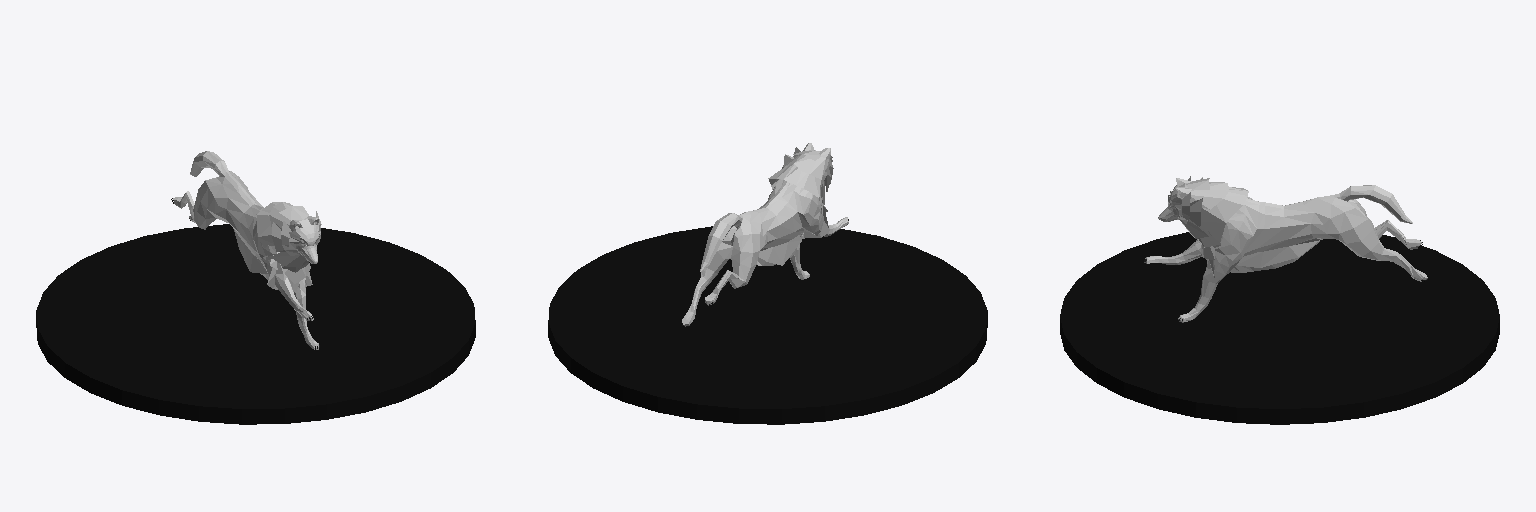
The model's file is doggo.obj.
3 views of the same model, side by side, from view 1: azimuth 30°, elevation 25°; view 2: azimuth 150°, elevation 25°; view 3: azimuth 270°, elevation 25° (orthographic).
Parts seen in each view (by area): view 1: Circle, Wolf1_Material__wolf_col_tga_0, Wolf2_fur__fella3_jpg_001_0_Wolf2_fur__fella3_jpg_001_0.001; view 2: Circle, Wolf1_Material__wolf_col_tga_0, Wolf2_fur__fella3_jpg_001_0_Wolf2_fur__fella3_jpg_001_0.001; view 3: Circle, Wolf1_Material__wolf_col_tga_0, Wolf2_fur__fella3_jpg_001_0_Wolf2_fur__fella3_jpg_001_0.001.
Boxes of the visible parts, <box> form: Circle: <box>36,224,475,424</box>; Wolf1_Material__wolf_col_tga_0: <box>173,151,318,349</box>; Wolf2_fur__fella3_jpg_001_0_Wolf2_fur__fella3_jpg_001_0.001: <box>234,202,321,291</box>; Circle: <box>548,226,987,424</box>; Wolf1_Material__wolf_col_tga_0: <box>682,143,848,326</box>; Wolf2_fur__fella3_jpg_001_0_Wolf2_fur__fella3_jpg_001_0.001: <box>757,147,833,265</box>; Circle: <box>1060,232,1499,424</box>; Wolf1_Material__wolf_col_tga_0: <box>1144,178,1427,322</box>; Wolf2_fur__fella3_jpg_001_0_Wolf2_fur__fella3_jpg_001_0.001: <box>1168,176,1319,277</box>.
Bounding box in the file's own units: 1.69 × 0.6422 × 1.69.